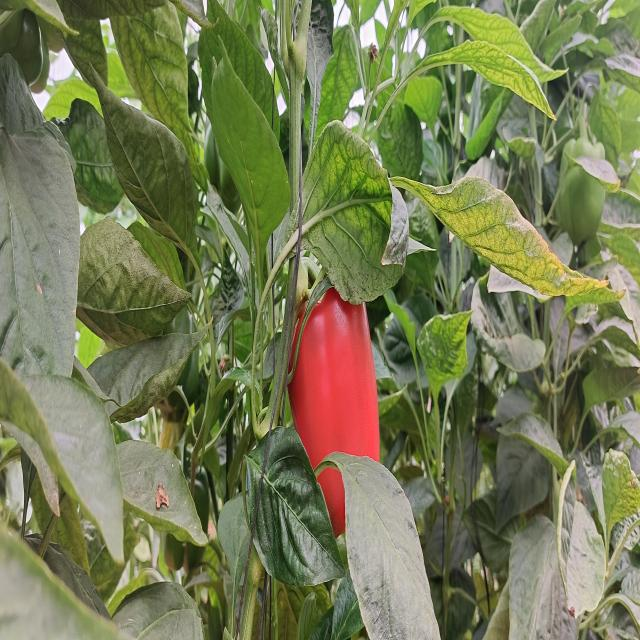Red-Ready-to-Harvest: (286, 275, 386, 540)
